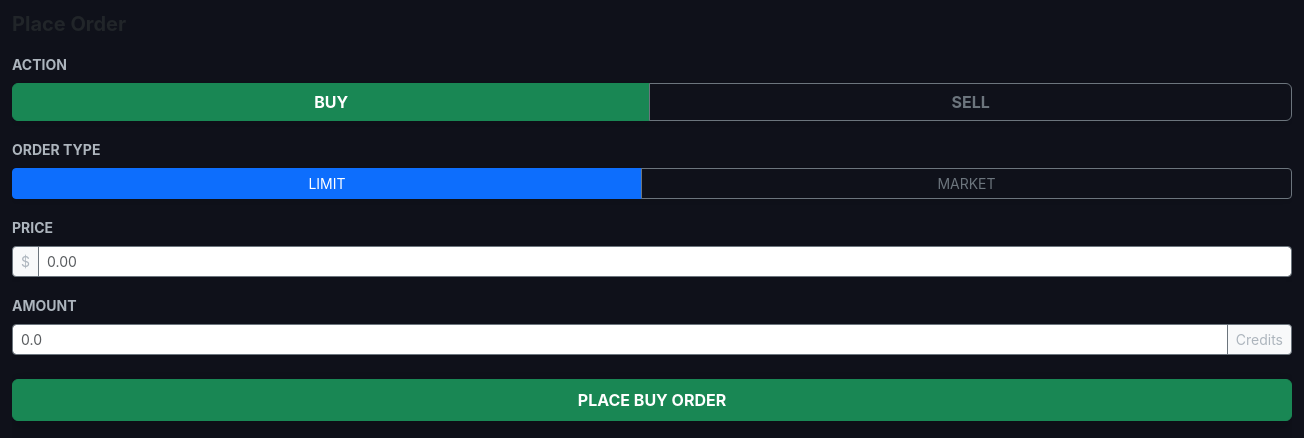
Test: TradingForm › should change execution mode
The width and height of the screenshot is (1304, 438).
Step 1. Click the button "MARKET" → x=966, y=184, box [641,168,1292,199]
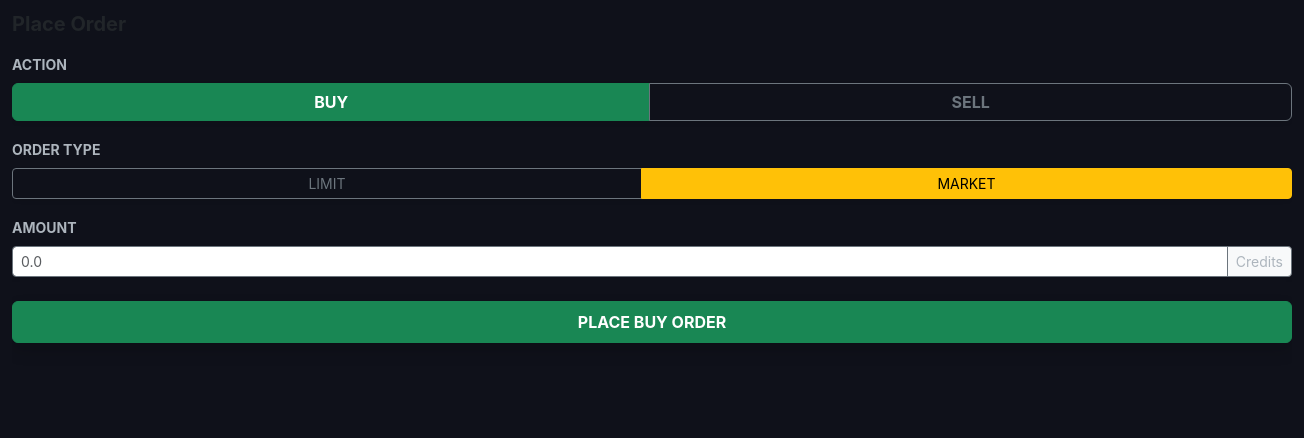
Check: the label labelled "Price" is gone
Step 2. Click the button "LIMIT" → x=327, y=184, box [12,168,642,199]
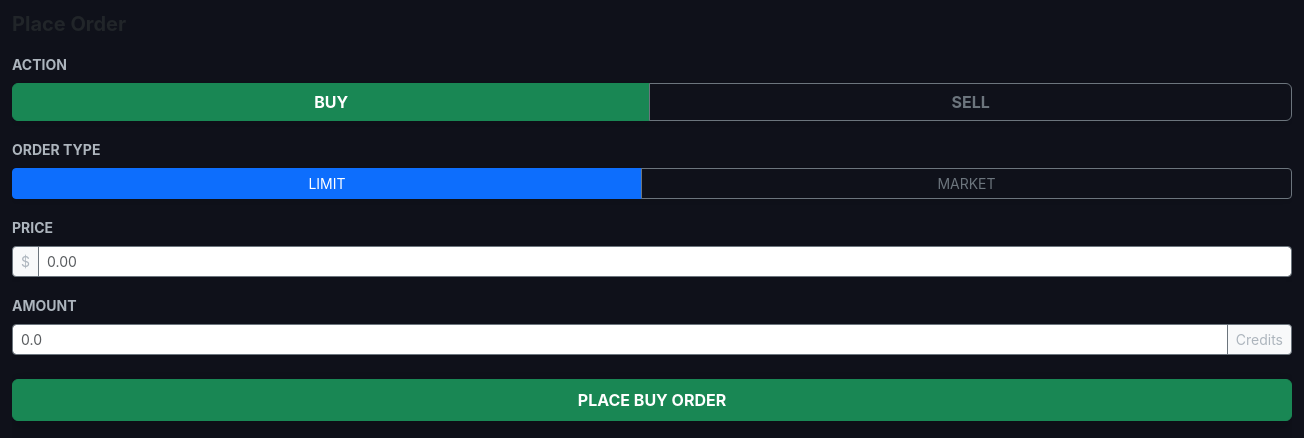
Check: the number field labelled "Price" is shown, box [38,246,1292,277]
